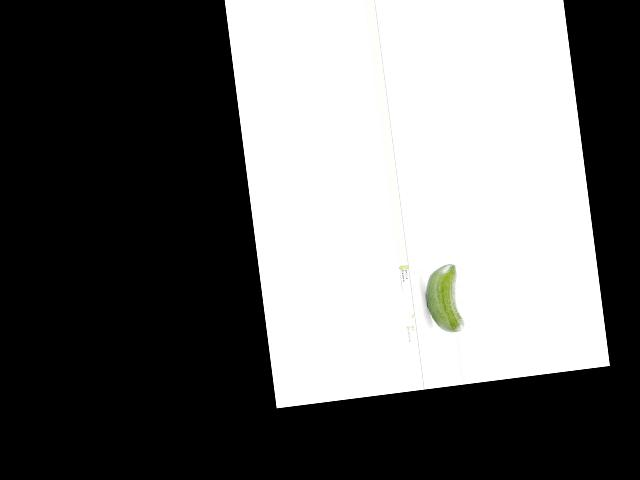cucumber: (422, 264, 464, 335)
